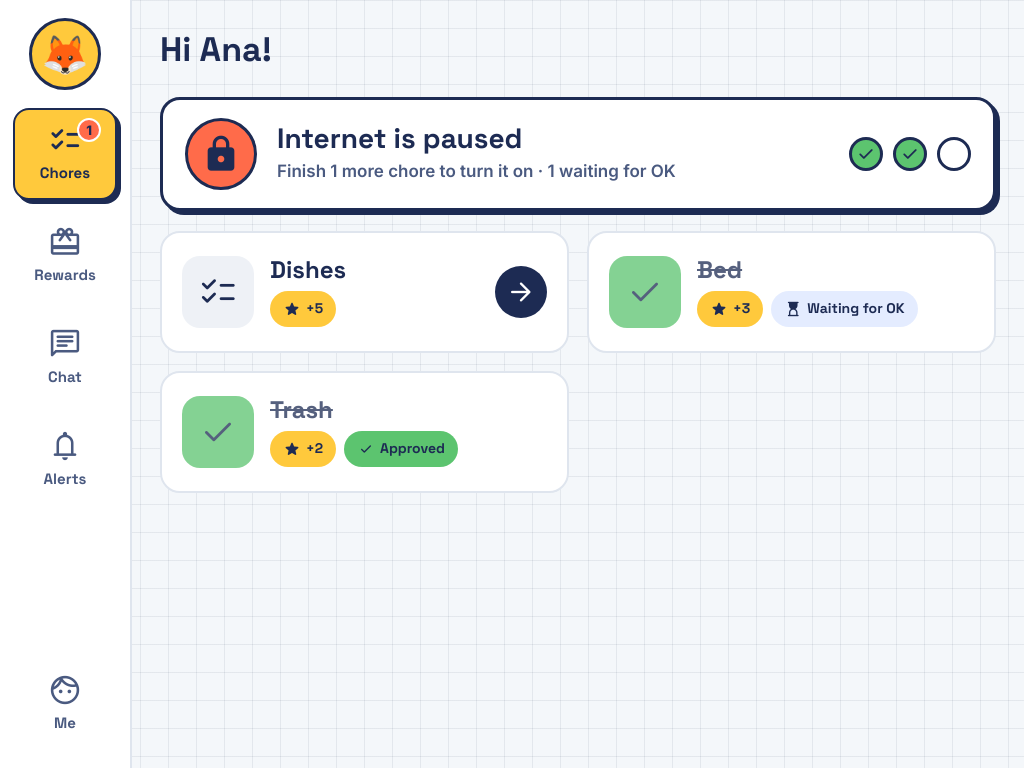
Test: kid lock screen › flips to unlocked when data changes
Expected: the text "Internet is paused" is shown, [277,120,522,156]
Click the button named "Open Dishes": (201, 303) [160,231,569,353]
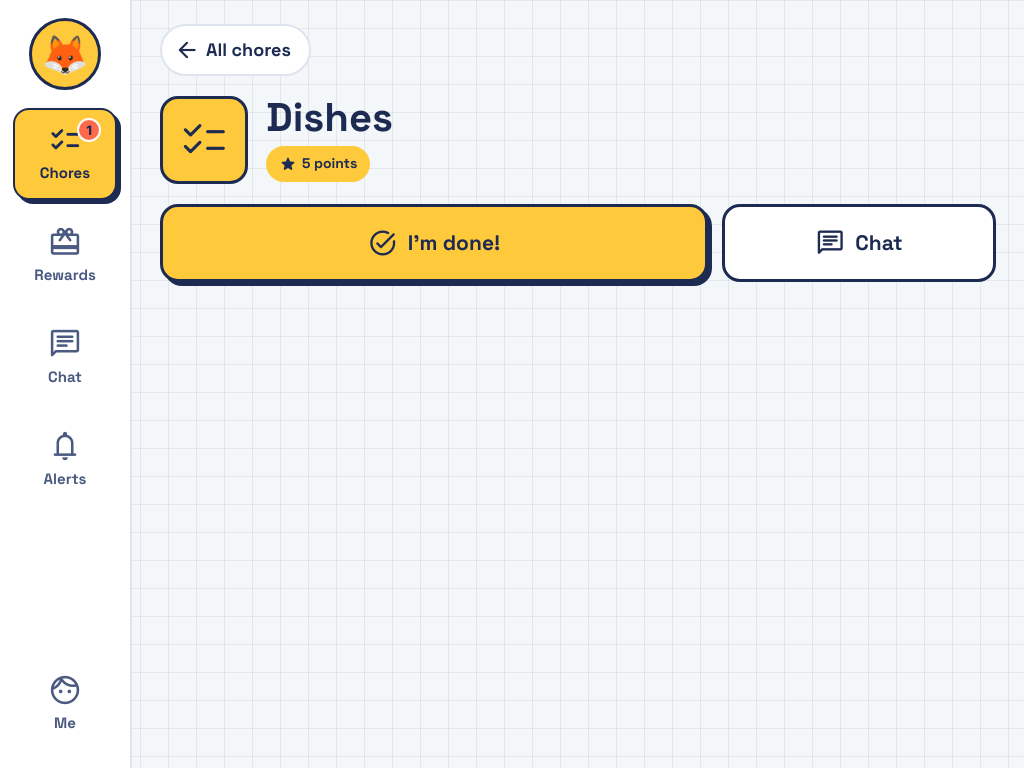
Click the button "I'm done!": (434, 243) [160,204,708,282]
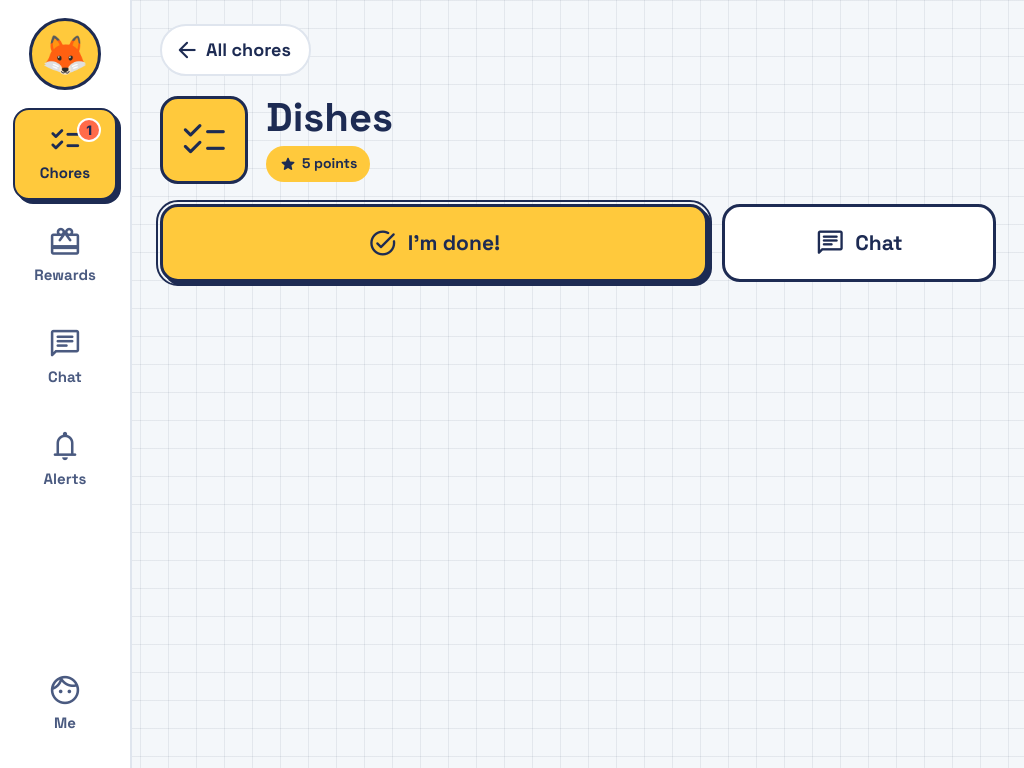
Click the button "All chores": (235, 50) [160,24,311,76]
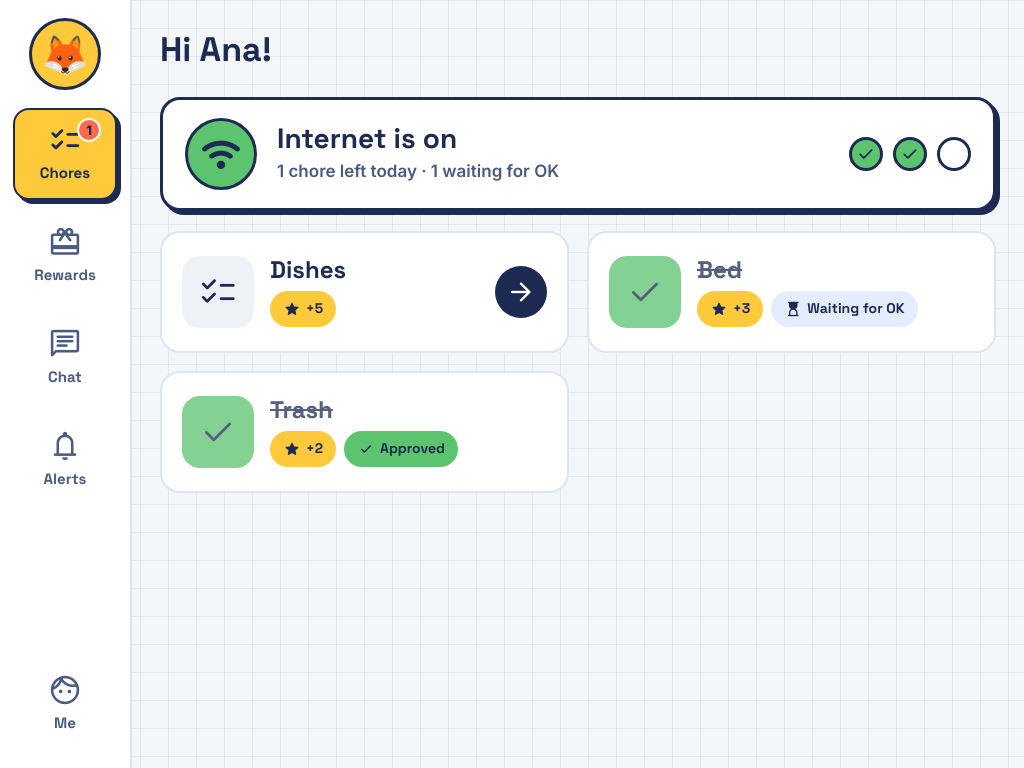
Now the text "Internet is on" is shown, box [277,120,457,156]
Now the button named "Open Dishes" is shown, box [160,231,569,353]
